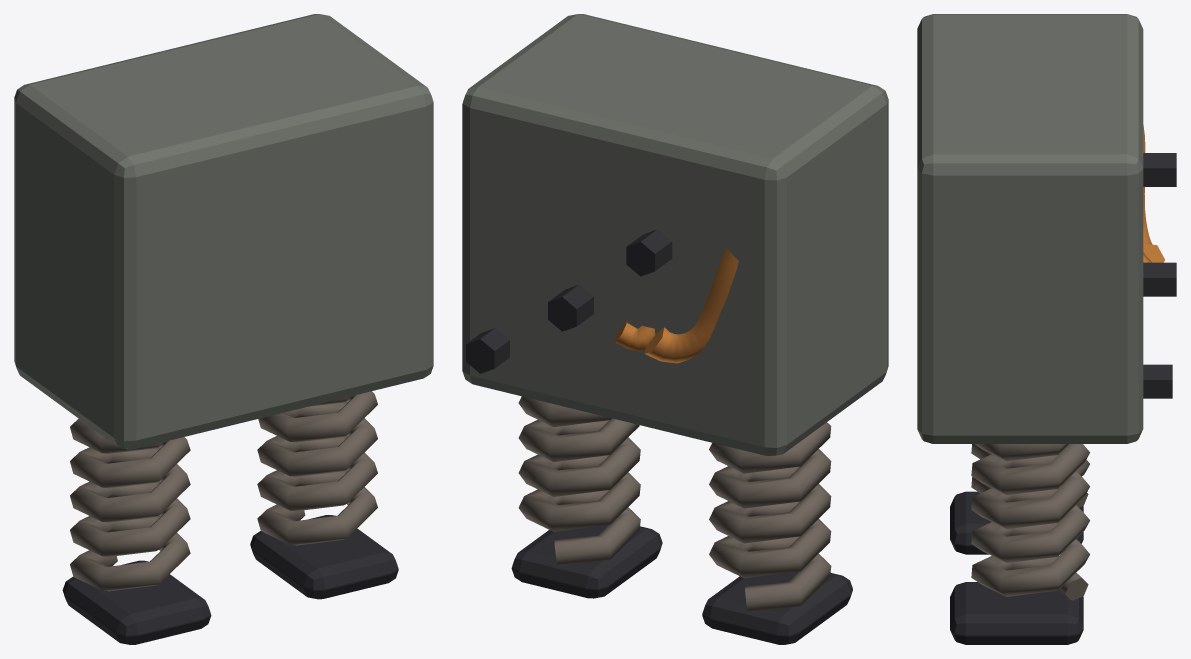
File: mo_stride.glb
The picture shows the model from 3 angles, left to right: view 1: azimuth 30°, elevation 25°; view 2: azimuth 150°, elevation 25°; view 3: azimuth 270°, elevation 25°; orthographic projection. The views are drawn at different scales.
Parts seen in each view (by area): view 1: mo_stride; view 2: mo_stride; view 3: mo_stride.
Part boxes in pixels (x1,y1,x2,y2): mo_stride: (14, 14, 433, 644); mo_stride: (462, 14, 888, 644); mo_stride: (917, 14, 1176, 644).
Bounding box in the file's own units: 0.1167 × 0.1771 × 0.0835.
